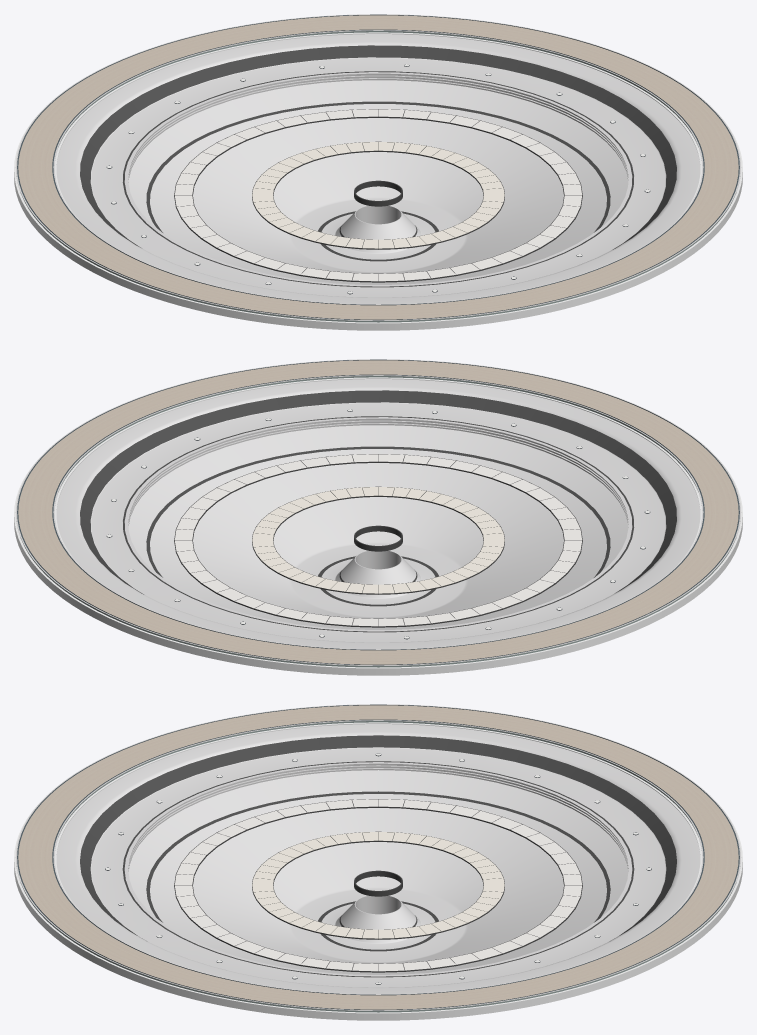
Rendered from MMo_C_001_DC_e_50x50.fbx.
3 views of the same model, one above another, from view 1: azimuth 30°, elevation 25°; view 2: azimuth 150°, elevation 25°; view 3: azimuth 270°, elevation 25° (orthographic).
Parts seen in each view (by area): view 1: MMo_C_001_DC_e_50x50; view 2: MMo_C_001_DC_e_50x50; view 3: MMo_C_001_DC_e_50x50.
Boxes of the visible parts, x1,y1,x2,y2 form: MMo_C_001_DC_e_50x50: (14,14,742,330); MMo_C_001_DC_e_50x50: (14,359,742,675); MMo_C_001_DC_e_50x50: (14,704,742,1020).
Bounding box in the file's own units: 50.65 × 5.21 × 50.65.
